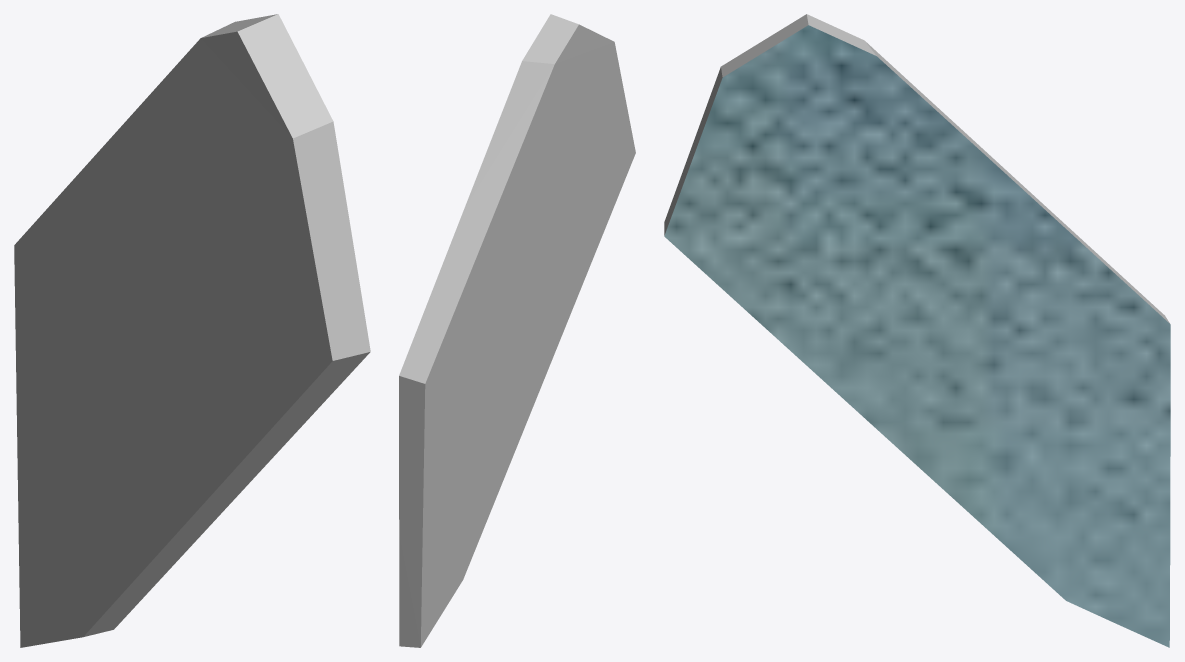
3 views of the same model, side by side, from view 1: azimuth 30°, elevation 25°; view 2: azimuth 150°, elevation 25°; view 3: azimuth 270°, elevation 25° (orthographic). The views are drawn at different scales.
Visible parts, largest first — view 1: Cube_cell.007_Mesh.007; view 2: Cube_cell.007_Mesh.007; view 3: Cube_cell.007_Mesh.007.
Boxes of the visible parts, box(x1,y1,x2,y2) form: Cube_cell.007_Mesh.007: box(14, 14, 370, 647); Cube_cell.007_Mesh.007: box(399, 14, 635, 647); Cube_cell.007_Mesh.007: box(664, 14, 1170, 647).
Bounding box in the file's own units: 0.0474 × 0.8541 × 0.6294.
